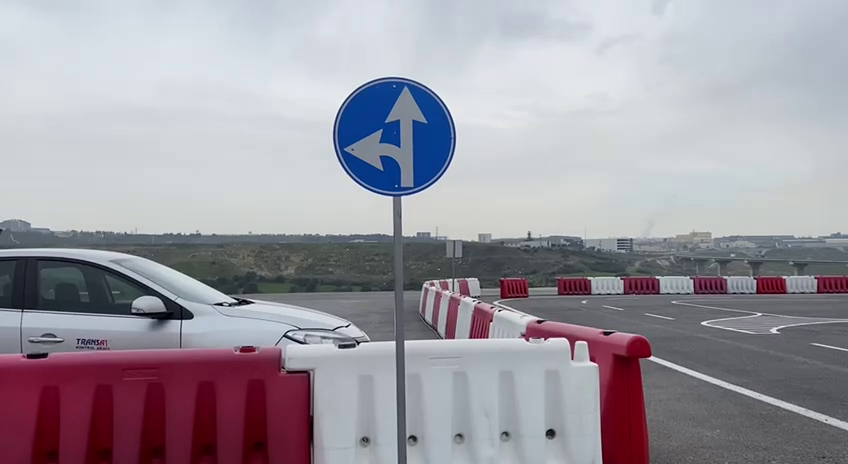forwardAndLeft: (329, 73, 458, 200)
